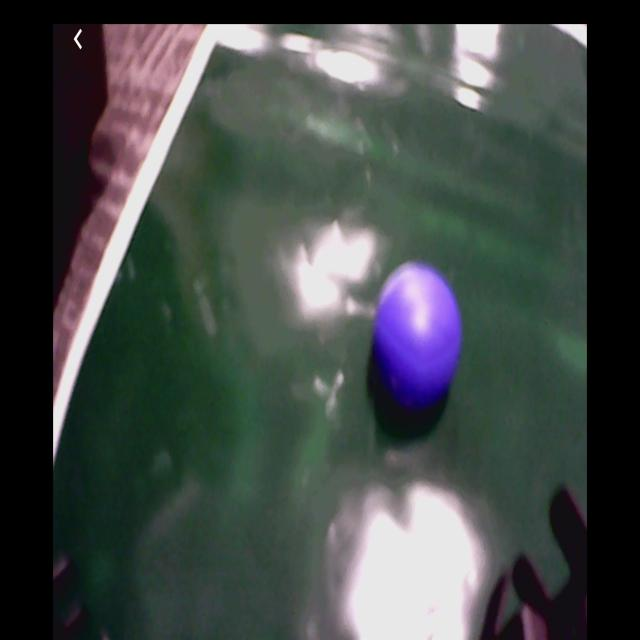ball: (371, 264, 460, 407)
